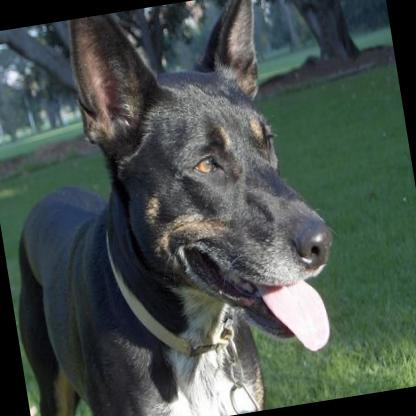kelpie: (0, 0, 353, 416)
